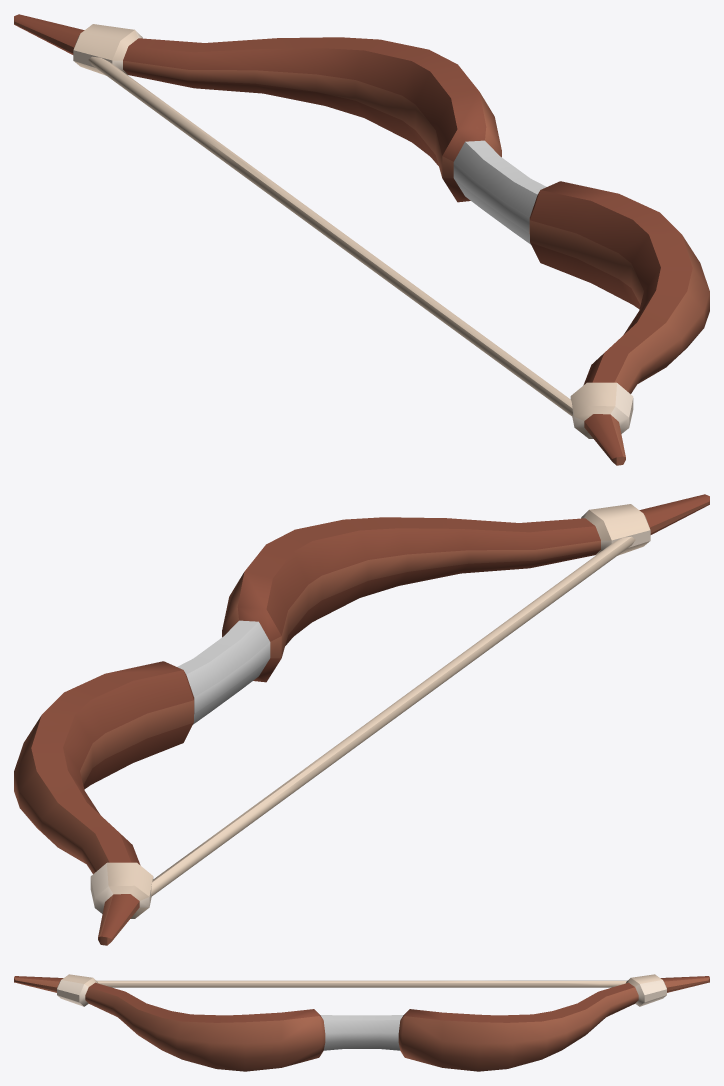
The model's file is arco.glb.
The picture shows the model from 3 angles, top to bottom: view 1: azimuth 30°, elevation 25°; view 2: azimuth 150°, elevation 25°; view 3: azimuth 270°, elevation 25°; orthographic projection. The views are drawn at different scales.
Visible parts, largest first — view 1: bow_withString; view 2: bow_withString; view 3: bow_withString.
Boxes of the visible parts, bbox=[...] form: bow_withString: bbox=[14, 14, 709, 465]; bow_withString: bbox=[14, 494, 709, 945]; bow_withString: bbox=[14, 974, 709, 1071].
Bounding box in the file's own units: 0.4944 × 0.1556 × 1.98.
2 materials, 2 textured.
